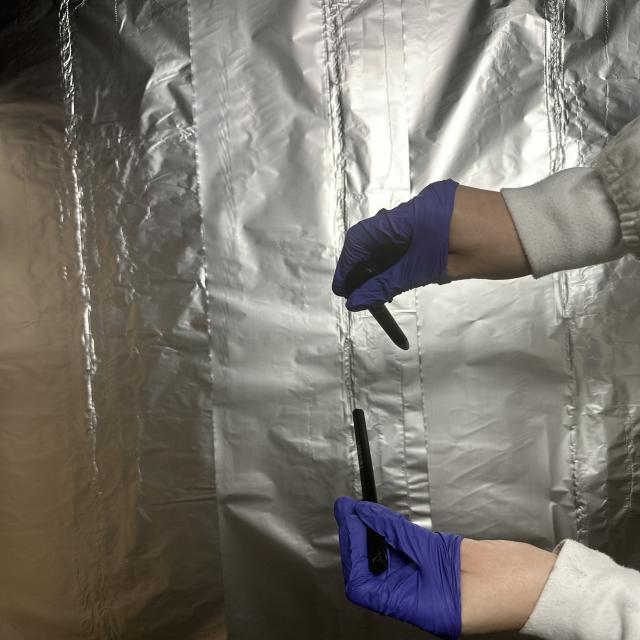glove_partial: (332, 493, 565, 640), (330, 175, 536, 314)
